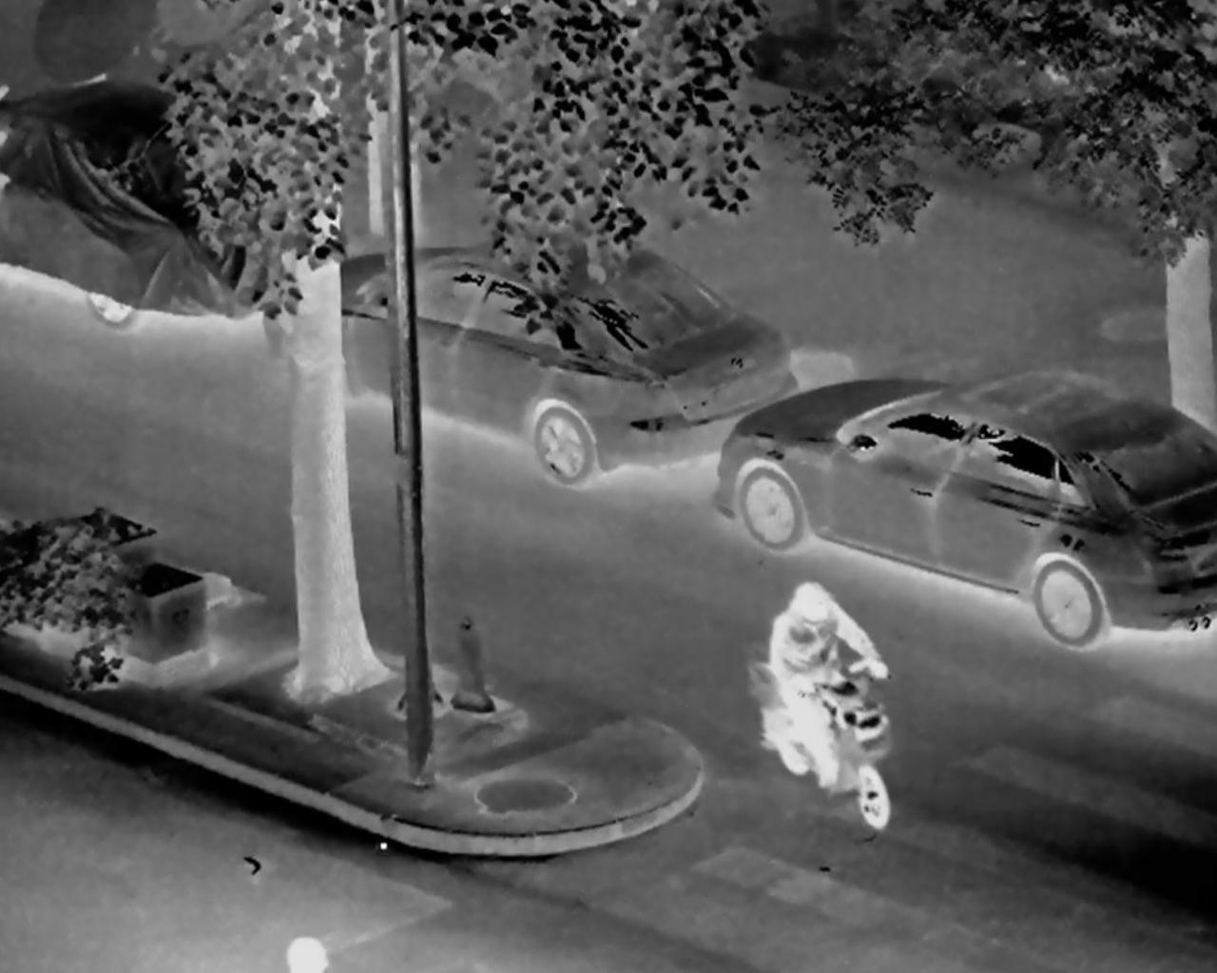person: (746, 569, 913, 831)
